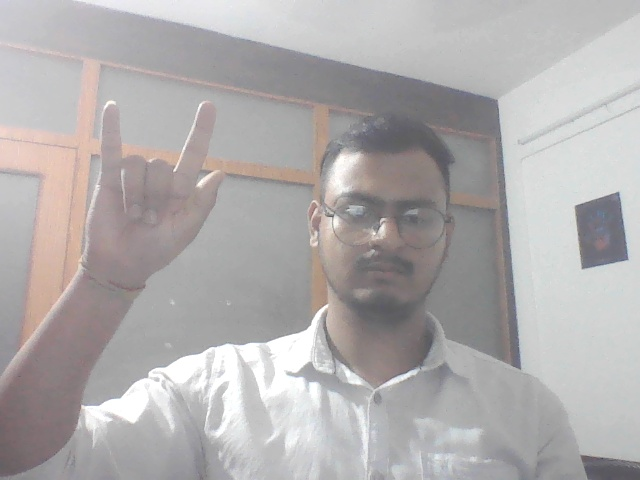I Love You: (78, 94, 235, 278)
